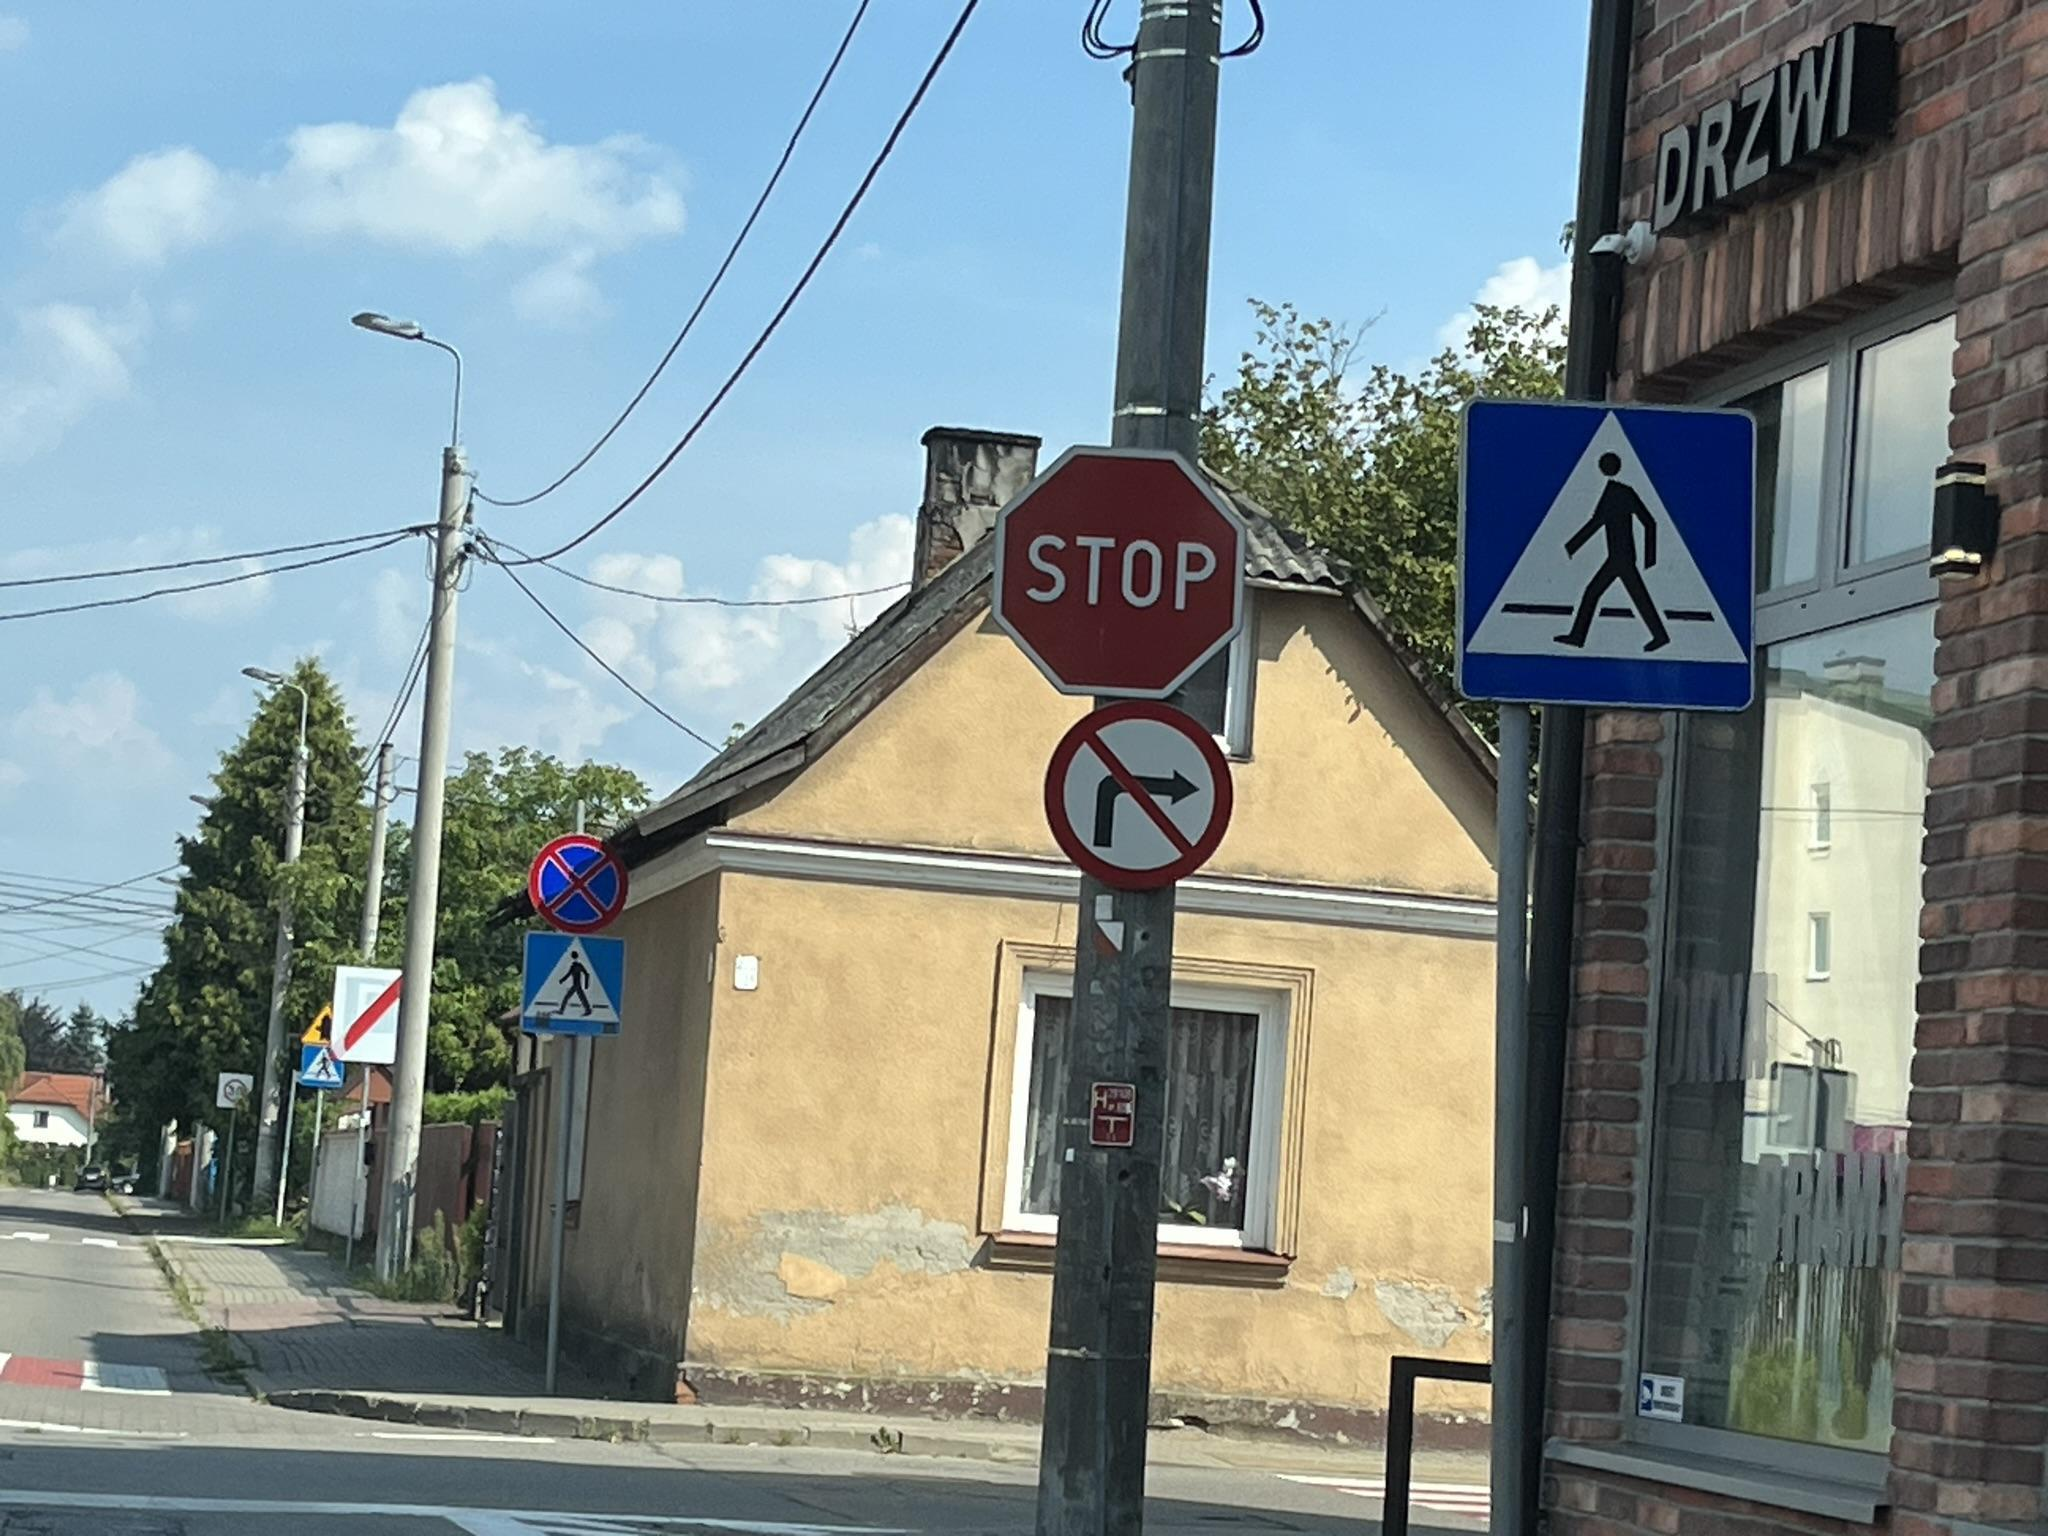information: (1456, 397, 1756, 710), (524, 937, 619, 1034), (342, 973, 400, 1046), (305, 1047, 340, 1083)
prohibitory: (992, 445, 1247, 700), (1043, 697, 1235, 891), (526, 833, 629, 934), (223, 1076, 248, 1104)
warning: (302, 1000, 332, 1046)
